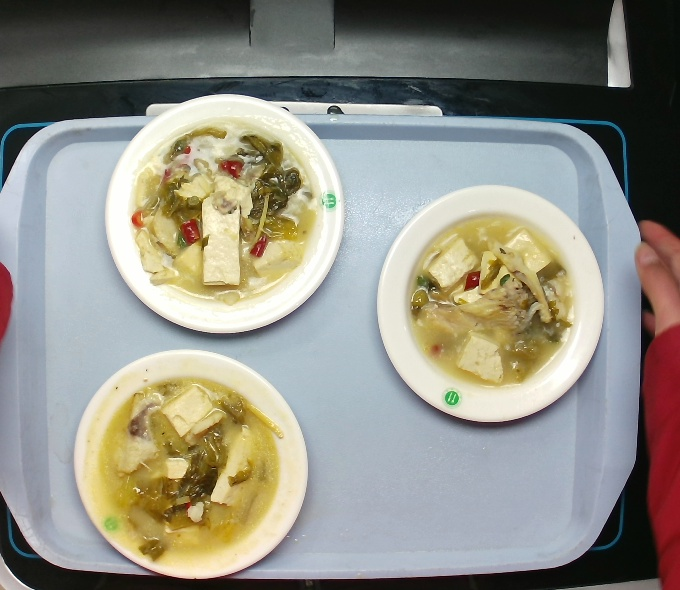wcq-SuanCaiDouFuYu: (90, 368, 294, 559), (124, 127, 325, 300), (400, 218, 584, 388)
